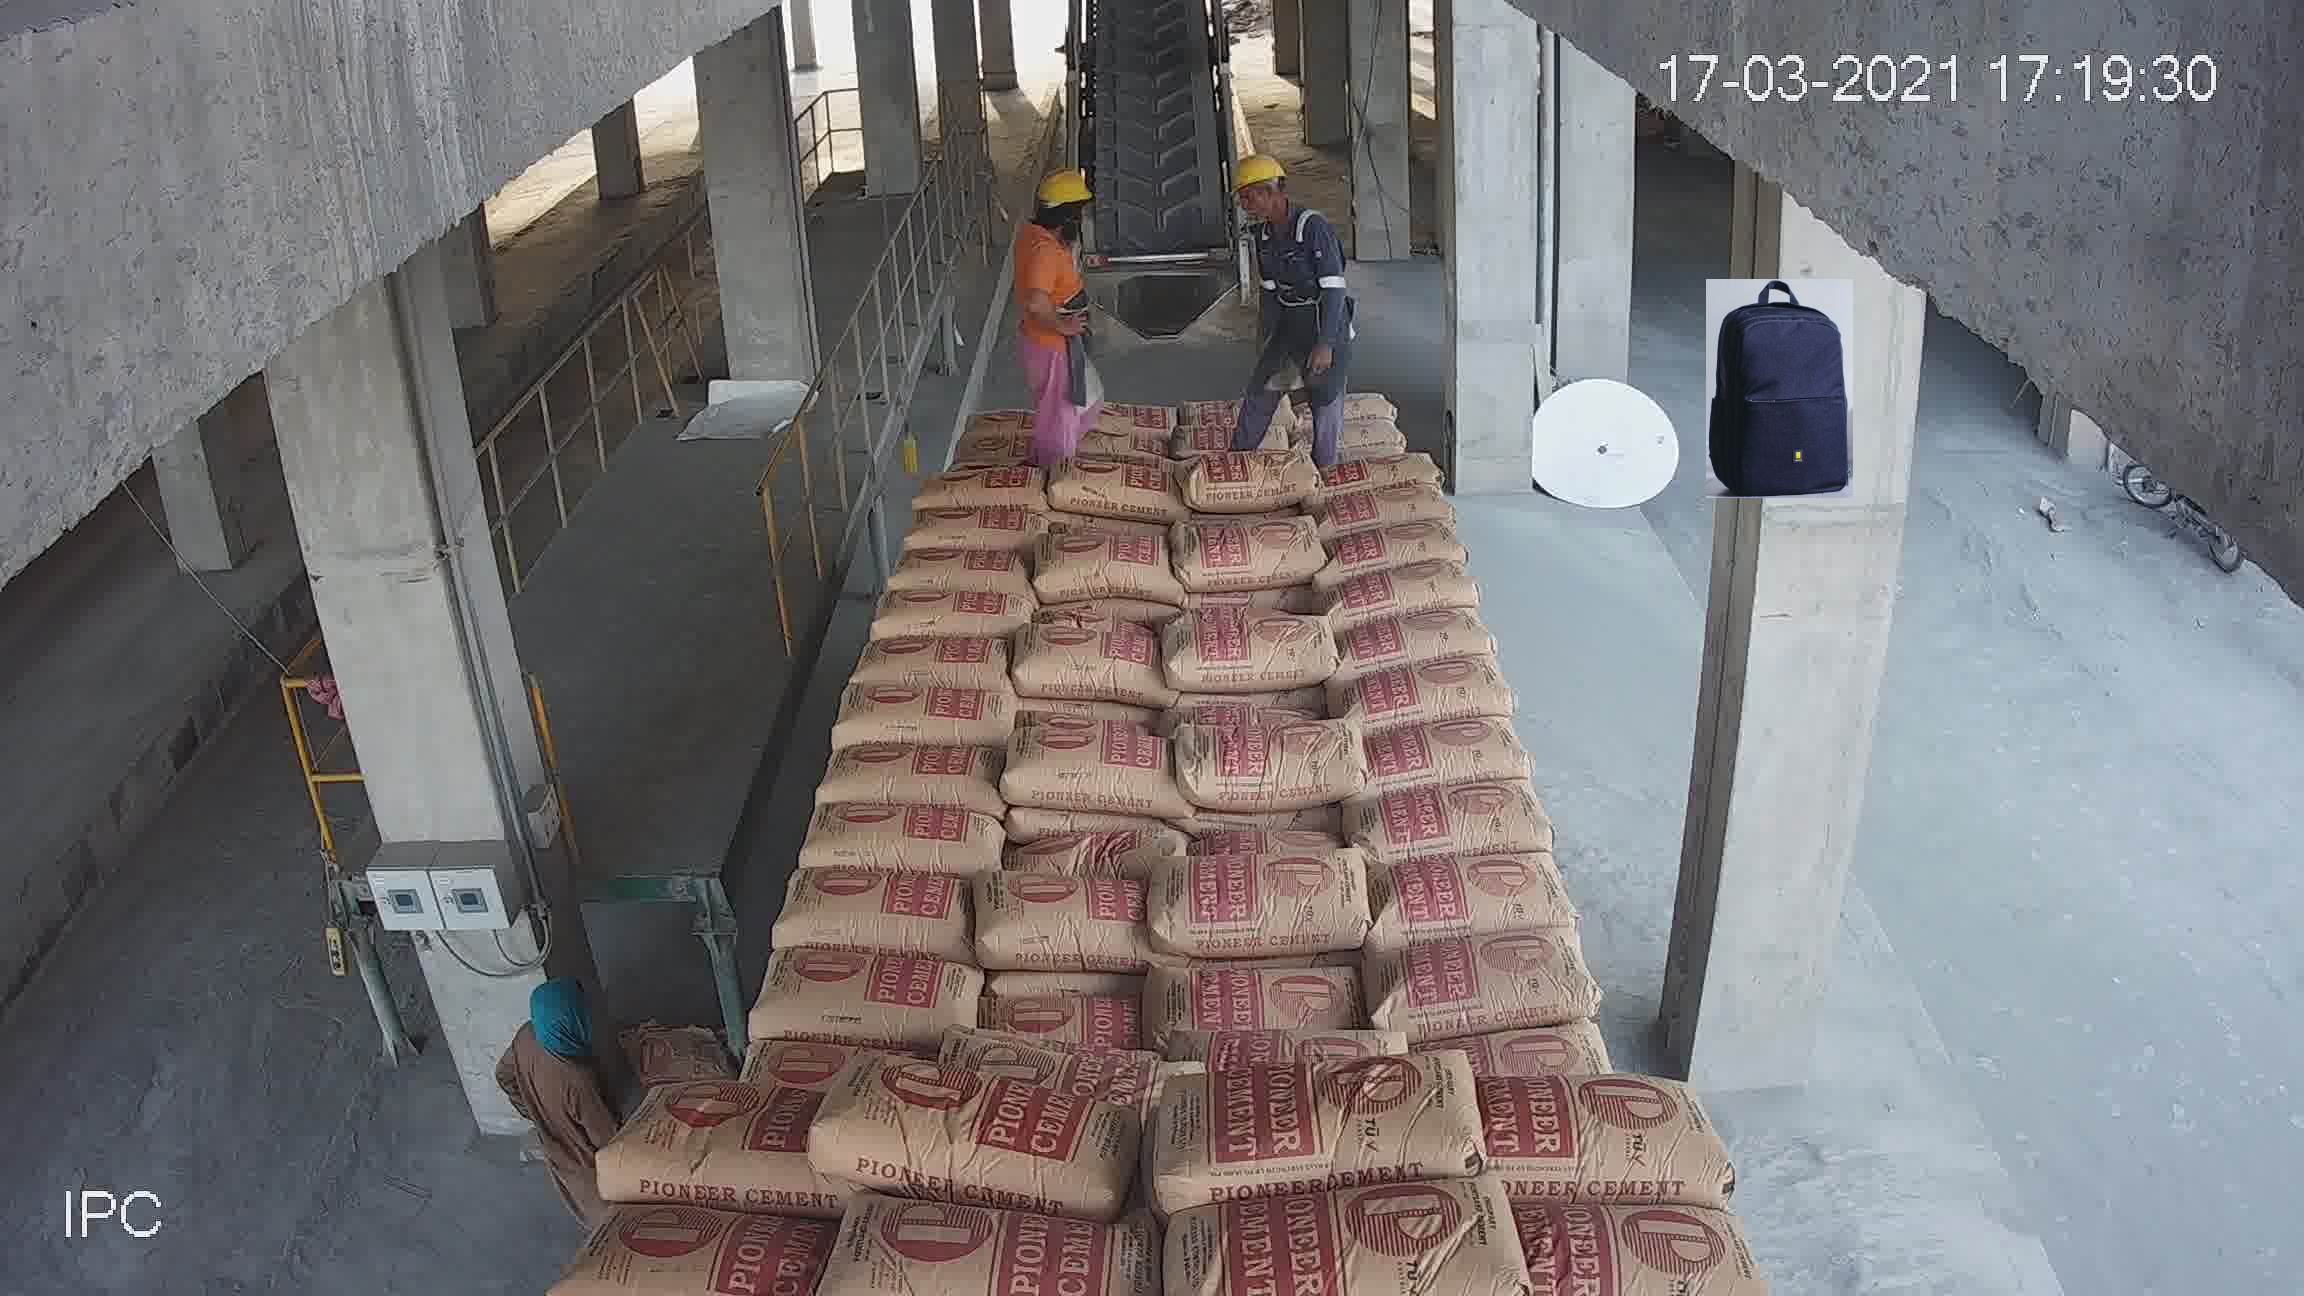bag_h: (779, 1070, 1161, 1217), (1141, 1036, 1487, 1195), (1154, 1150, 1513, 1287), (1472, 1078, 1719, 1225), (802, 1209, 1169, 1293), (597, 1070, 801, 1215), (1152, 840, 1385, 957), (529, 1201, 820, 1293), (1355, 929, 1616, 1030), (744, 953, 987, 1051), (1347, 848, 1581, 945), (1513, 1196, 1774, 1275), (965, 859, 1139, 976), (1187, 706, 1372, 812), (1165, 1013, 1426, 1082), (777, 864, 968, 953), (1160, 949, 1350, 1038), (1329, 774, 1551, 850), (1010, 722, 1188, 815), (793, 733, 1013, 807), (927, 1041, 1218, 1097), (1347, 706, 1527, 793), (801, 802, 1024, 872), (831, 671, 1021, 752), (847, 620, 1032, 695), (1168, 517, 1326, 601), (1472, 1003, 1627, 1089), (1161, 623, 1336, 699), (1337, 665, 1532, 729), (869, 585, 1036, 658), (975, 980, 1154, 1048), (1021, 812, 1214, 870), (1329, 616, 1503, 680), (1336, 559, 1483, 633), (1021, 627, 1161, 701), (1038, 445, 1185, 513), (885, 543, 1041, 600), (1038, 533, 1166, 603), (1331, 517, 1480, 574), (1182, 445, 1320, 503), (897, 502, 1036, 559), (1328, 486, 1475, 535), (905, 462, 1040, 514), (1324, 449, 1448, 489), (953, 408, 1036, 465), (1090, 392, 1184, 441), (1055, 434, 1193, 467), (959, 400, 1040, 441)
belt: (1063, 27, 1244, 301)
